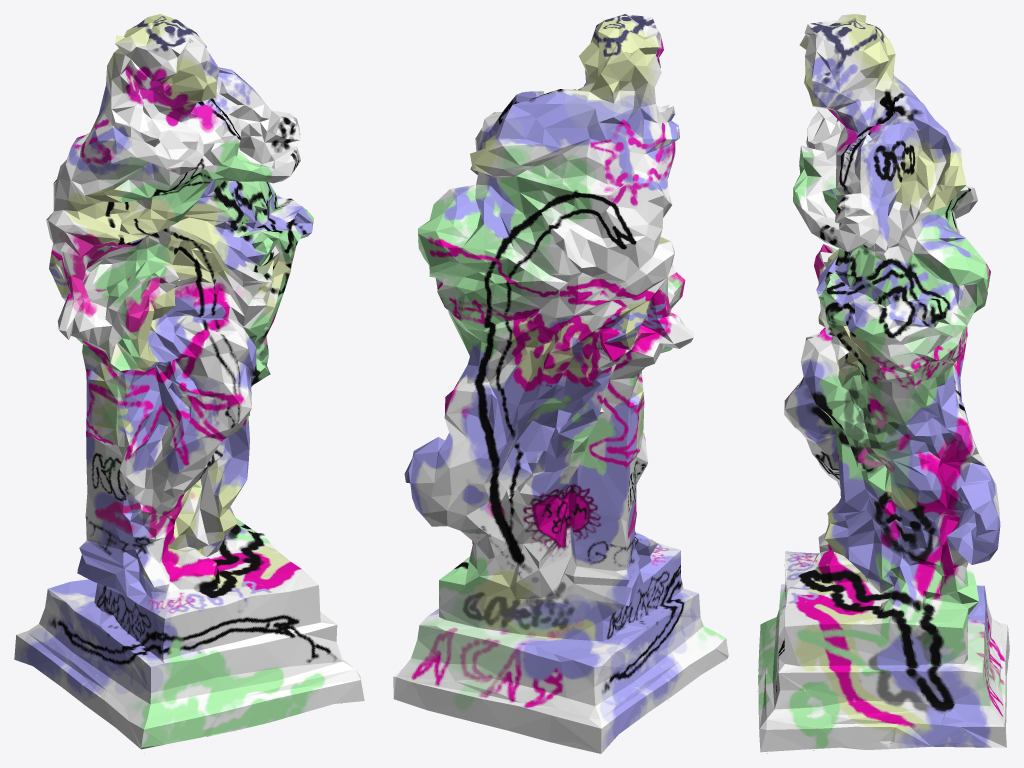
File: uprimnost.glb
3 renders of one model, left to right at view 1: azimuth 30°, elevation 25°; view 2: azimuth 150°, elevation 25°; view 3: azimuth 270°, elevation 25°, orthographic. The views are drawn at different scales.
Parts seen in each view (by area): view 1: UPRIMNOST_5K_2KTEX; view 2: UPRIMNOST_5K_2KTEX; view 3: UPRIMNOST_5K_2KTEX.
Boxes of the visible parts, x1=… form: UPRIMNOST_5K_2KTEX: x1=14, y1=14, x2=364, y2=749; UPRIMNOST_5K_2KTEX: x1=393, y1=14, x2=728, y2=753; UPRIMNOST_5K_2KTEX: x1=758, y1=14, x2=1009, y2=753.
Bounding box in the file's own units: 1.11 × 2.87 × 0.9975.
Materials: 1 (1 with a texture image).
